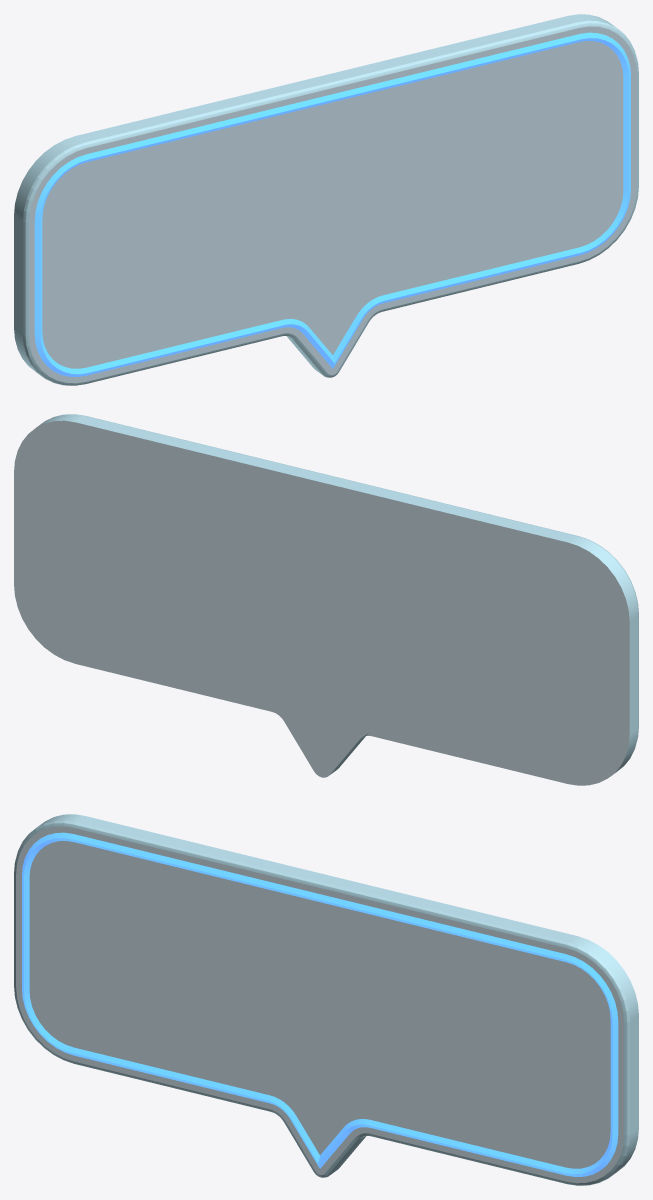
Rendered from pf-tooltip-bubble-cadc2a.glb.
The picture shows the model from 3 angles, top to bottom: view 1: azimuth 30°, elevation 25°; view 2: azimuth 150°, elevation 25°; view 3: azimuth 330°, elevation 25°; orthographic projection.
Parts seen in each view (by area): view 1: glass, rim, accent-line, tail-line; view 2: glass, rim; view 3: glass, rim, accent-line, tail-line.
Part boxes in pixels (x1,y1,x2,y2): glass: (29,26,636,383); rim: (14,14,638,385); accent-line: (34,32,630,376); tail-line: (283,295,384,368); glass: (14,420,629,785); rim: (36,414,638,776); glass: (16,826,623,1183); rim: (14,814,638,1185); accent-line: (22,832,618,1176); tail-line: (268,1095,369,1168).
Size of the model in its own units: 0.16 by 0.0733 by 0.0058.
